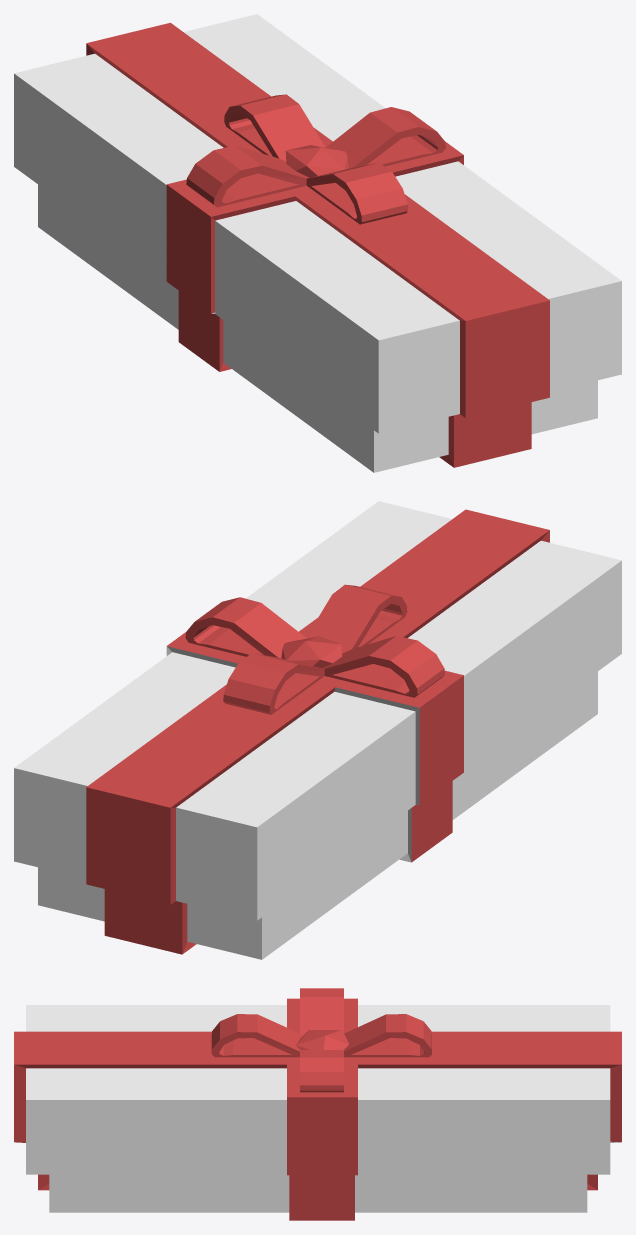
The model's file is long_present.dae.
3 views of the same model, one above another, from view 1: azimuth 30°, elevation 25°; view 2: azimuth 150°, elevation 25°; view 3: azimuth 270°, elevation 25° (orthographic). The views are drawn at different scales.
Parts seen in each view (by area): view 1: long_present; view 2: long_present; view 3: long_present.
Boxes of the visible parts, x1,y1,x2,y2 form: long_present: (14,14,621,472); long_present: (14,501,621,959); long_present: (14,988,621,1220).
Bounding box in the file's own units: 0.207 × 0.5378 × 0.1486.
